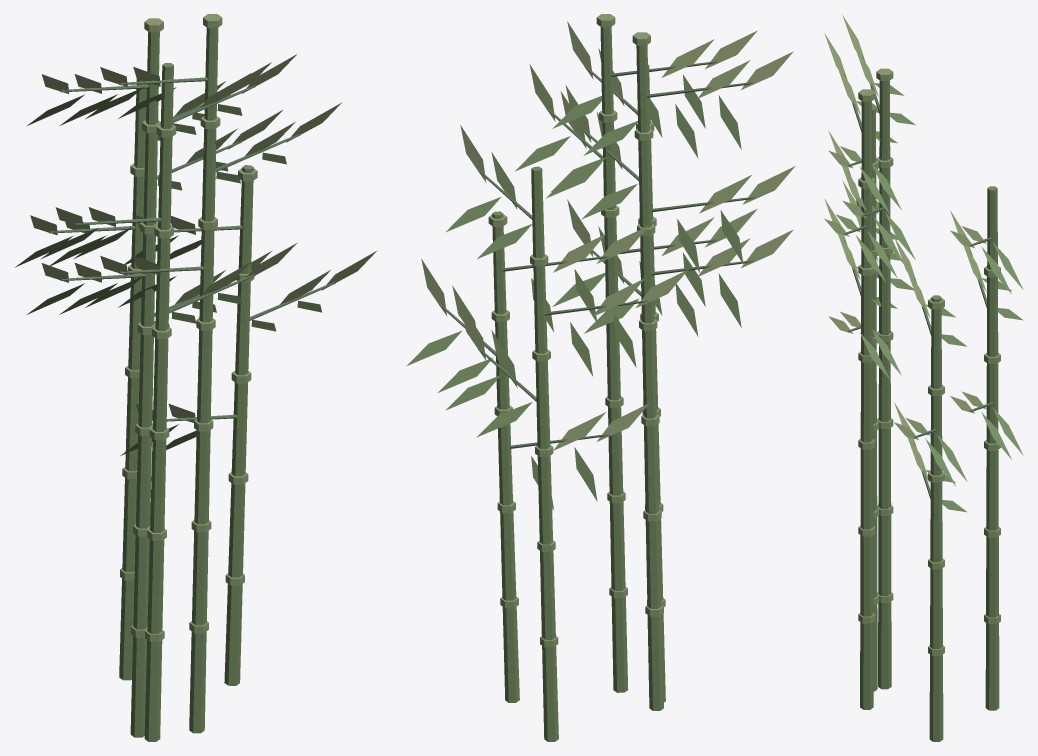
Rendered from komachi-bamboo.glb.
3 views of the same model, side by side, from view 1: azimuth 30°, elevation 25°; view 2: azimuth 150°, elevation 25°; view 3: azimuth 270°, elevation 25° (orthographic). The views are drawn at different scales.
Parts seen in each view (by area): view 1: Komachi_bamboo; view 2: Komachi_bamboo; view 3: Komachi_bamboo.
Part boxes in pixels (bbox=[...]): Komachi_bamboo: bbox=[15, 14, 377, 741]; Komachi_bamboo: bbox=[407, 14, 795, 741]; Komachi_bamboo: bbox=[824, 15, 1023, 741].
Bounding box in the file's own units: 0.6488 × 1.21 × 0.3503.
